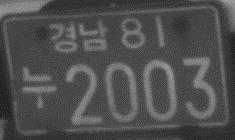0: (102, 59, 140, 125), (141, 59, 178, 122)
1: (153, 13, 170, 50)
2: (63, 61, 104, 125)
3: (180, 55, 218, 120)
8: (120, 17, 146, 49)
경남_O: (46, 19, 109, 54)
누: (19, 65, 57, 110)
